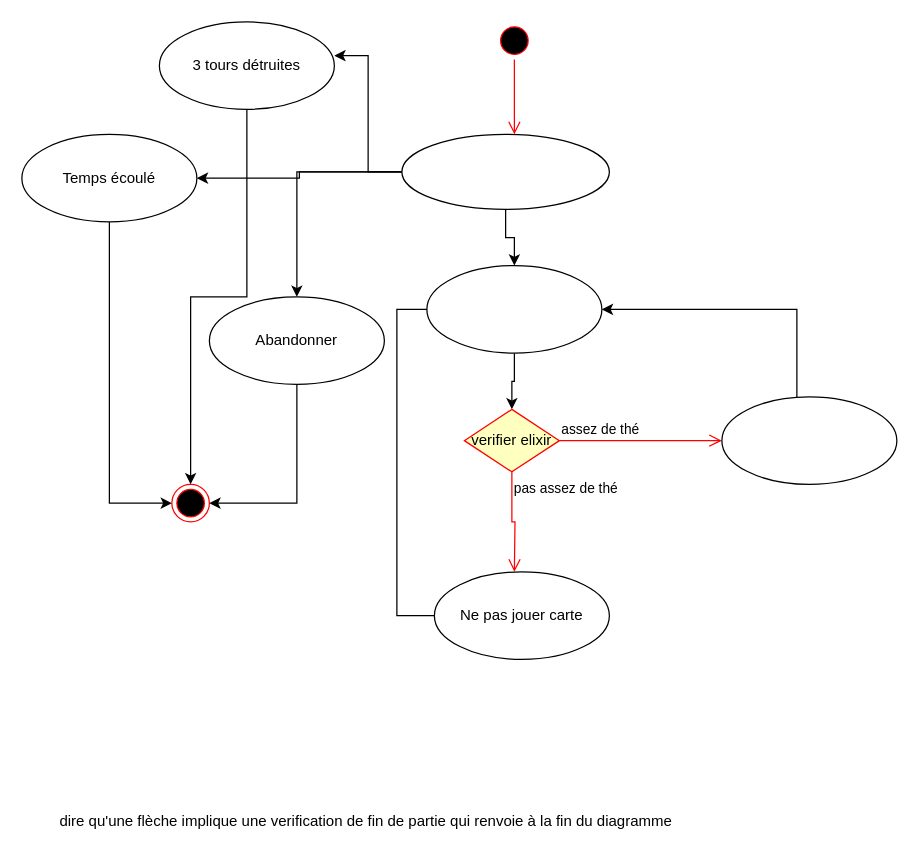
Some shapes in this 919 by 856 pixel diagram are drawn without their labels. Each missing label, with the centre of its shape:
"Demander à jouer Carte" goes at point (514, 308).
"jouer Carte" goes at point (809, 440).
"Lancer Partie" goes at point (505, 171).
